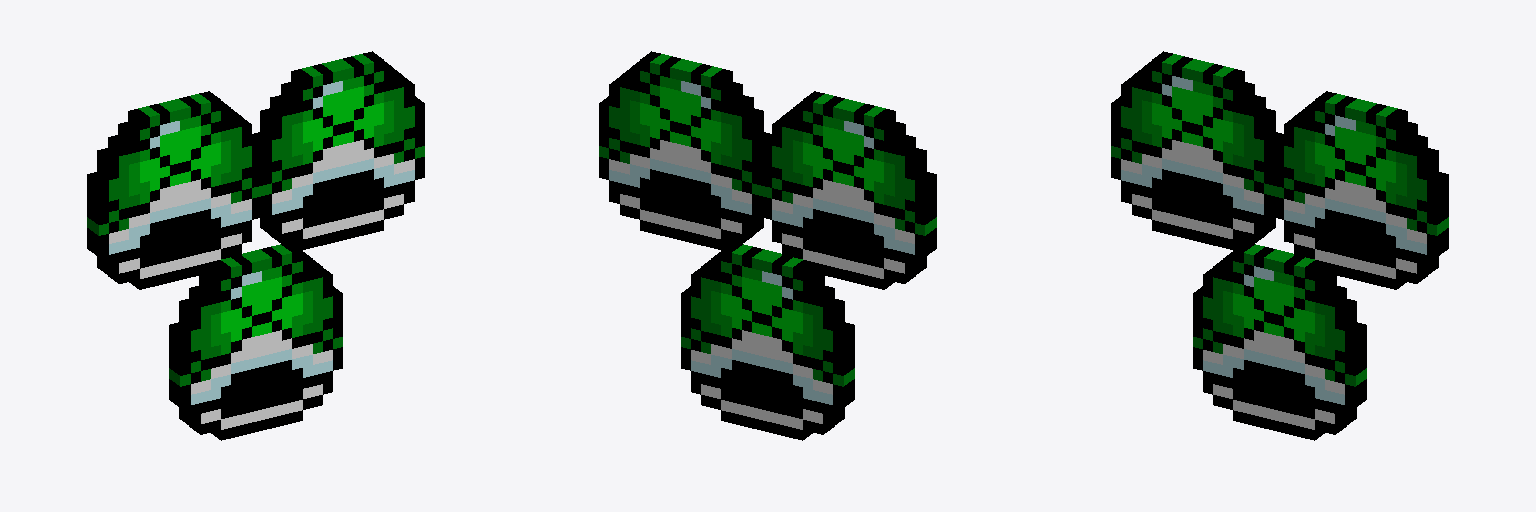
3 renders of one model, left to right at view 1: azimuth 30°, elevation 25°; view 2: azimuth 150°, elevation 25°; view 3: azimuth 330°, elevation 25°, orthographic.
Visible parts, largest first — view 1: object 1; view 2: object 1; view 3: object 1.
Boxes of the visible parts, x1,y1,x2,y2 form: object 1: [87, 51, 424, 440]; object 1: [599, 51, 936, 440]; object 1: [1111, 51, 1448, 440].
Size of the model in its own units: 3.2 by 3.2 by 0.2.
Materials: 1 (1 with a texture image).